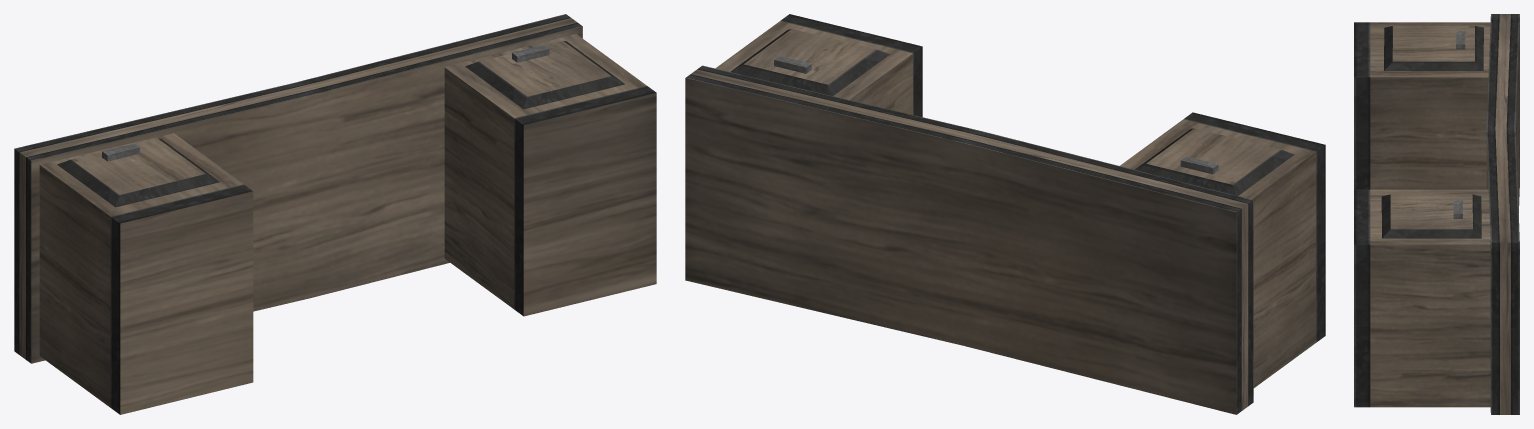
File: Desk_A.fbx
3 renders of one model, left to right at view 1: azimuth 30°, elevation 25°; view 2: azimuth 150°, elevation 25°; view 3: azimuth 270°, elevation 25°, orthographic. The views are drawn at different scales.
Visible parts, largest first — view 1: Desk_A; view 2: Desk_A; view 3: Desk_A.
Boxes of the visible parts, x1,y1,x2,y2 form: Desk_A: [14, 14, 656, 414]; Desk_A: [685, 14, 1325, 414]; Desk_A: [1354, 14, 1519, 414].
Size of the model in its own units: 3.5 by 1.27 by 1.07.
